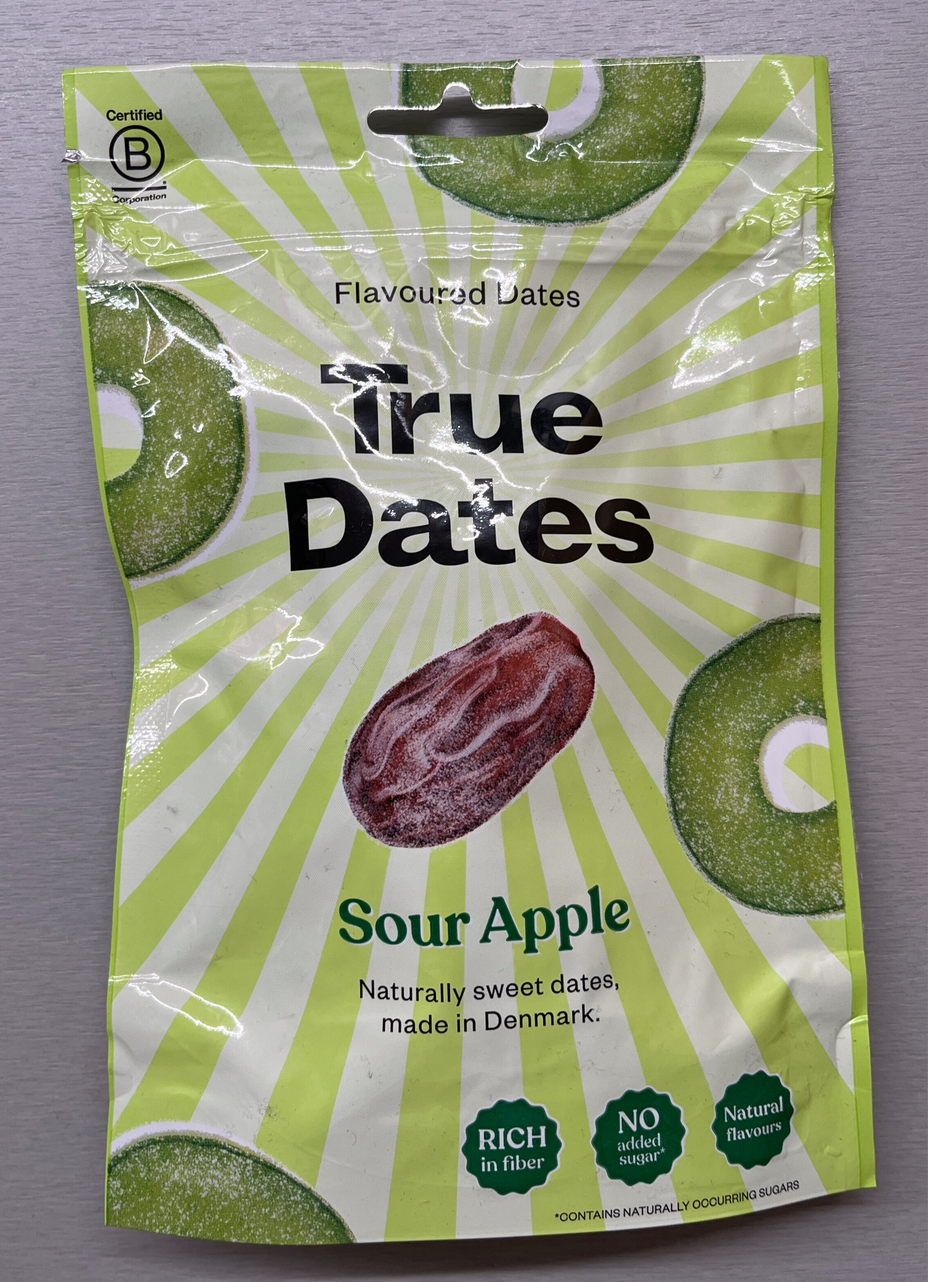True Dates - Sour Apple: (46, 64, 882, 1218)
